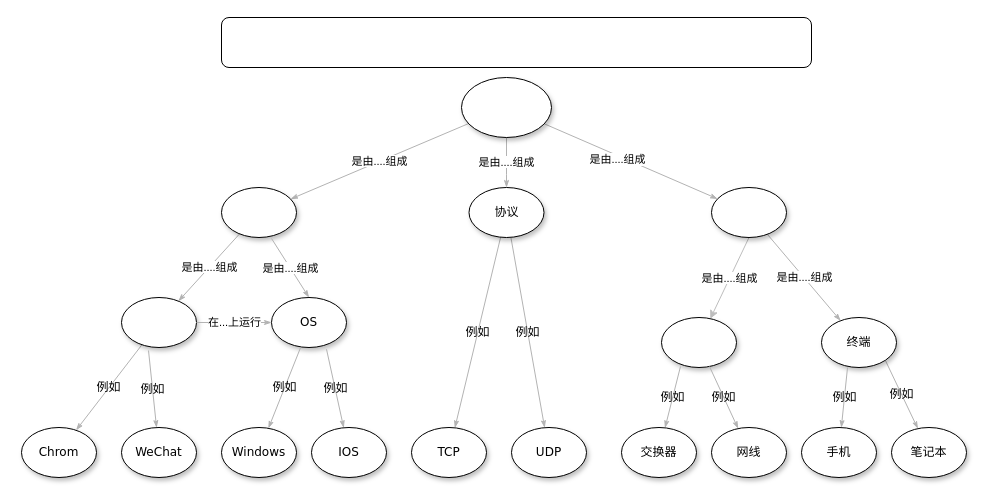
Some shapes in this 990 by 502 pixel diagram are drawn without their labels. The shapes that lost their labels are listed below. From the top down, each one's centre as x and y in pixels, then its label:
At point (516, 42): "Focus Question:互联网是由什么组成？".
At point (507, 108): "互联网".
At point (259, 213): "软件".
At point (749, 213): "硬件".
At point (159, 323): "Application".
At point (699, 343): "交换设备".
